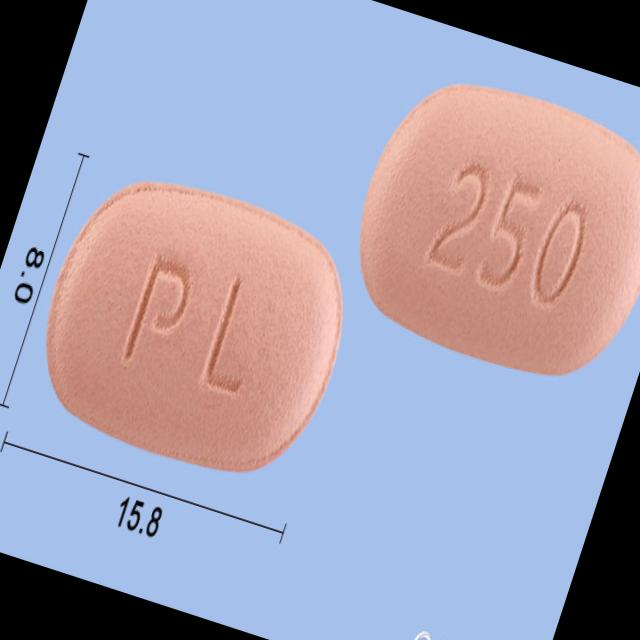Levoxacin -500mg: (16, 156, 374, 497), (330, 57, 640, 401)
